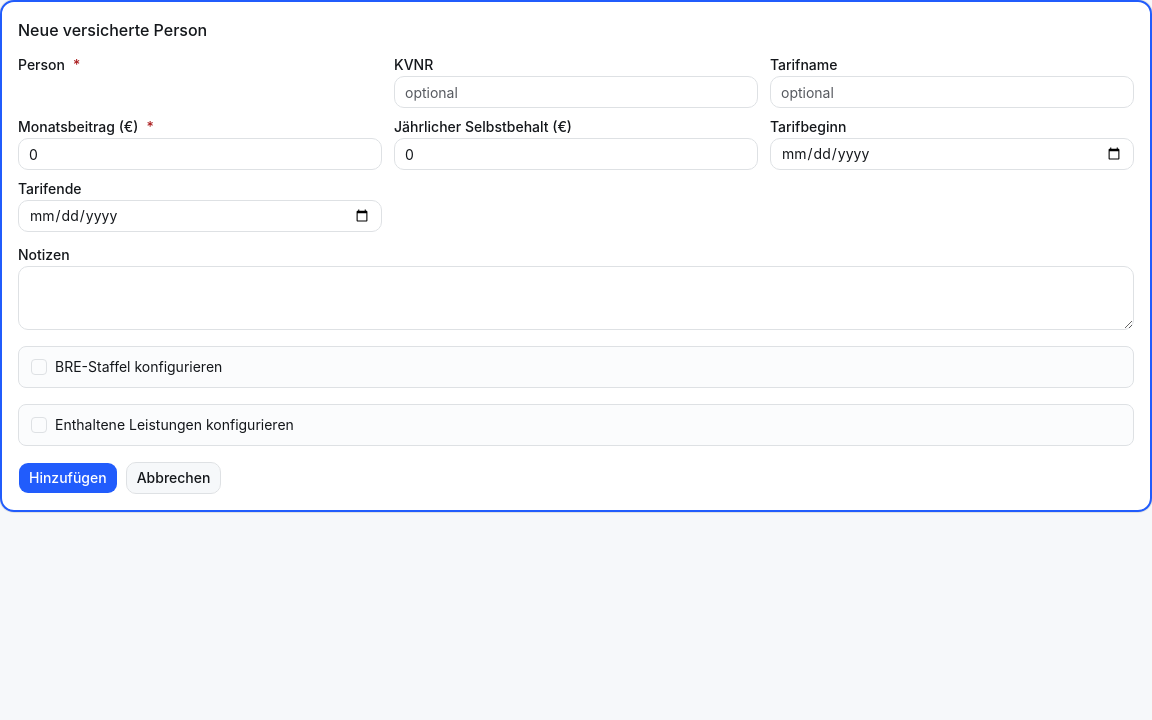
Test case: InsuredPersonForm › refuses to save without a person
This screenshot has width=1152, height=720.
Click the button "Hinzufügen" at point(68, 478), box [18, 462, 118, 494]
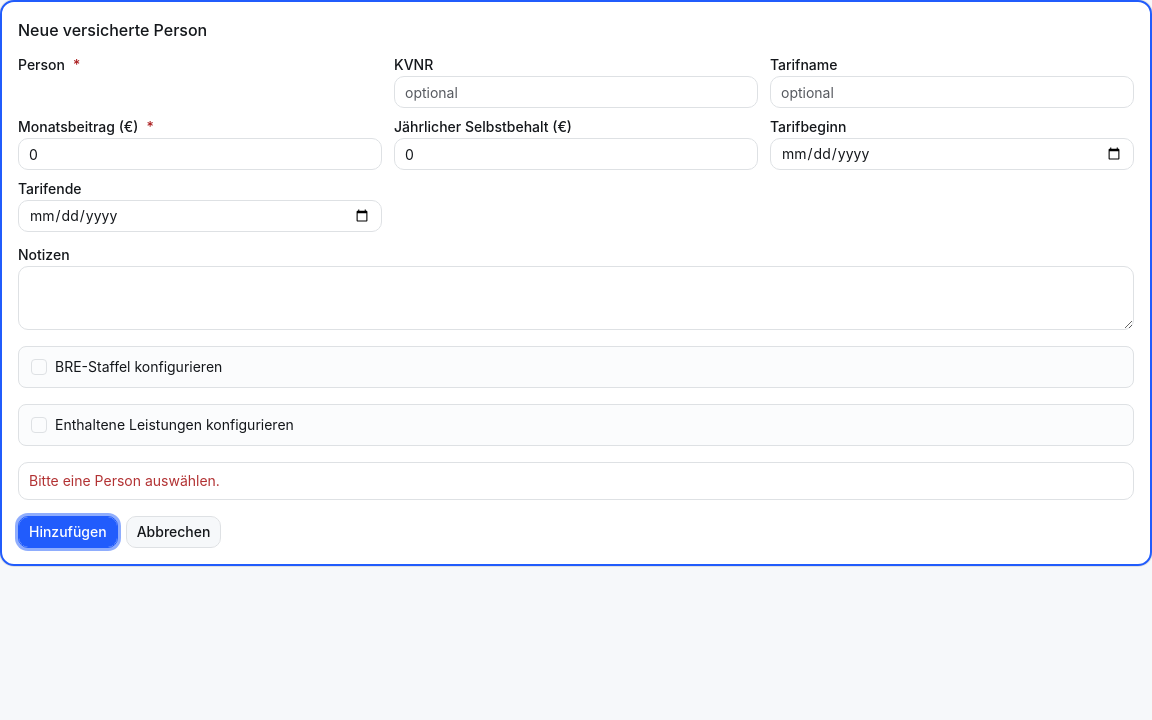
Check: the text "Bitte eine Person auswählen." is shown, box [29, 472, 220, 489]
